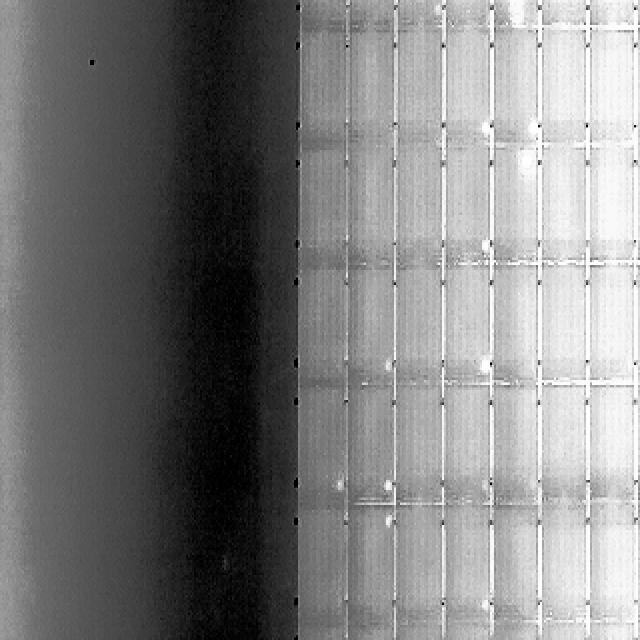Hotspots: (474, 112, 494, 143), (506, 0, 530, 25), (476, 350, 494, 380), (517, 149, 536, 177), (475, 226, 492, 256), (474, 592, 492, 620), (377, 476, 398, 498), (378, 354, 396, 376), (525, 115, 540, 141), (332, 470, 347, 496), (430, 0, 444, 22), (378, 513, 394, 531)
PV-modules: (299, 145, 355, 270), (298, 505, 350, 635), (395, 504, 444, 639), (299, 27, 355, 144), (538, 496, 588, 626), (588, 498, 637, 629), (487, 505, 538, 630), (299, 267, 350, 391), (442, 382, 493, 506), (393, 148, 446, 266), (442, 504, 491, 631), (349, 502, 396, 634), (587, 264, 637, 388), (537, 144, 588, 265), (348, 147, 399, 268), (443, 266, 492, 390), (588, 382, 638, 503), (487, 266, 536, 389), (344, 383, 393, 505), (487, 387, 538, 504), (443, 145, 492, 266), (538, 265, 586, 388), (538, 26, 587, 146), (395, 31, 444, 151), (394, 267, 443, 386), (589, 144, 637, 264), (487, 148, 535, 266), (538, 386, 588, 498), (489, 27, 536, 146), (394, 388, 443, 502), (588, 27, 636, 143), (444, 28, 491, 146), (352, 28, 396, 153), (298, 388, 346, 502), (349, 266, 393, 389), (444, 0, 494, 30), (536, 0, 588, 28), (588, 0, 636, 30), (300, 0, 350, 28), (396, 0, 444, 28), (350, 0, 396, 28), (492, 0, 538, 28), (630, 265, 640, 385), (632, 498, 640, 630), (632, 25, 640, 145), (632, 385, 640, 503), (634, 142, 640, 260), (630, 0, 640, 30)
